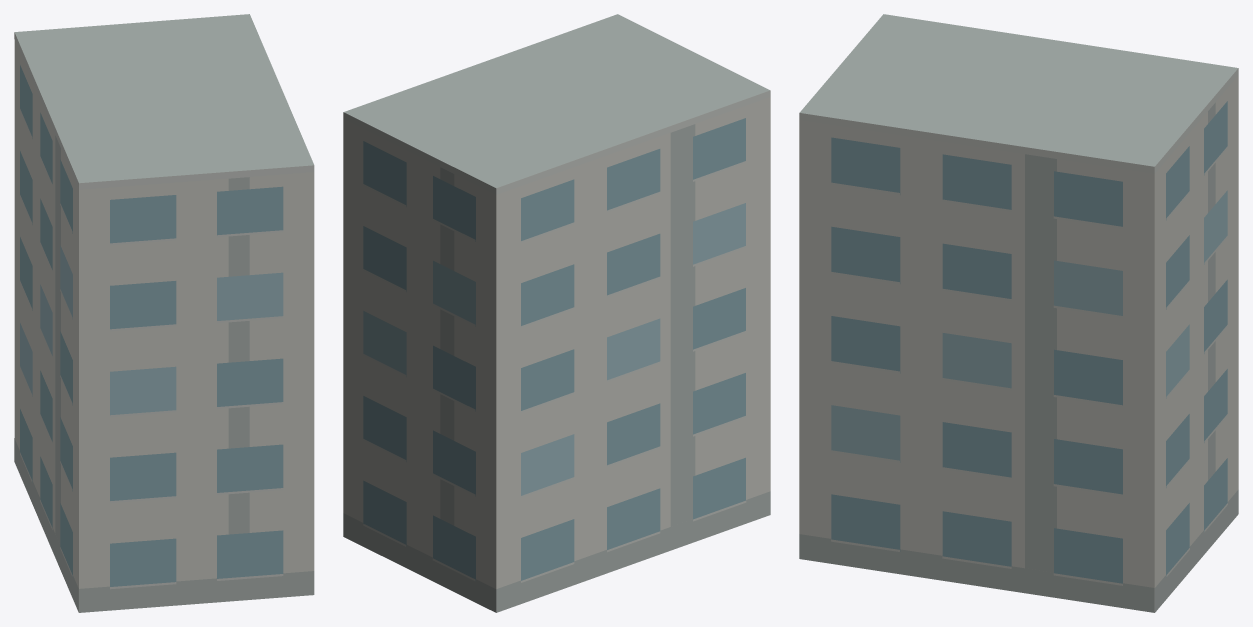
The model's file is residential-cb08a88b-4038-41e0-9c23-5283030f169e.glb.
The picture shows the model from 3 angles, left to right: view 1: azimuth 30°, elevation 25°; view 2: azimuth 150°, elevation 25°; view 3: azimuth 270°, elevation 25°; orthographic projection. The views are drawn at different scales.
Visible parts, largest first — view 1: residential-cb08a88b-4038-41e0-9c23-5283030f169e.tmp; view 2: residential-cb08a88b-4038-41e0-9c23-5283030f169e.tmp; view 3: residential-cb08a88b-4038-41e0-9c23-5283030f169e.tmp.
Boxes of the visible parts, bbox=[...] form: residential-cb08a88b-4038-41e0-9c23-5283030f169e.tmp: bbox=[14, 14, 314, 612]; residential-cb08a88b-4038-41e0-9c23-5283030f169e.tmp: bbox=[343, 14, 770, 612]; residential-cb08a88b-4038-41e0-9c23-5283030f169e.tmp: bbox=[799, 14, 1238, 612].
Bounding box in the file's own units: 11.21 × 15.25 × 13.61.
